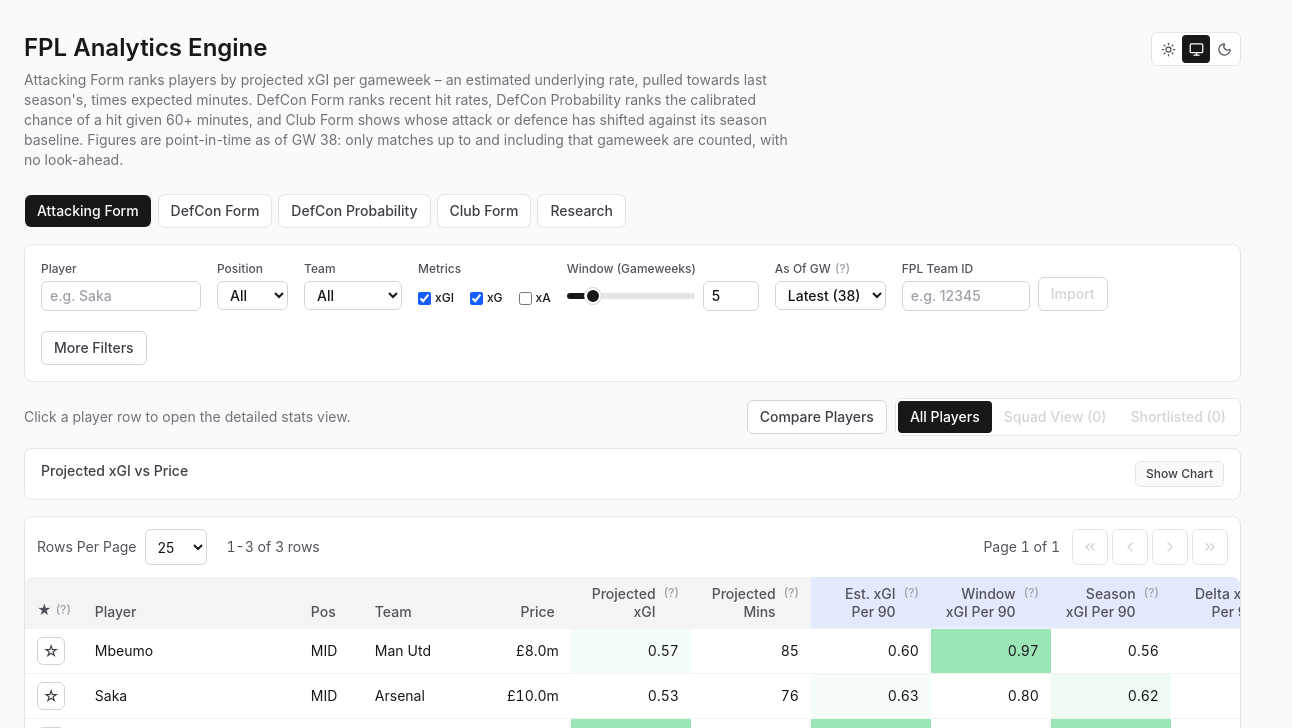
Test: filters the table by the player search box
Expected: the text "Saka" is shown, [95,686,127,706]
Type "Mbe" into the search field with placeholder "e.g. Saka".
click(121, 296); type("Mbe")  # box [41,281,201,311]
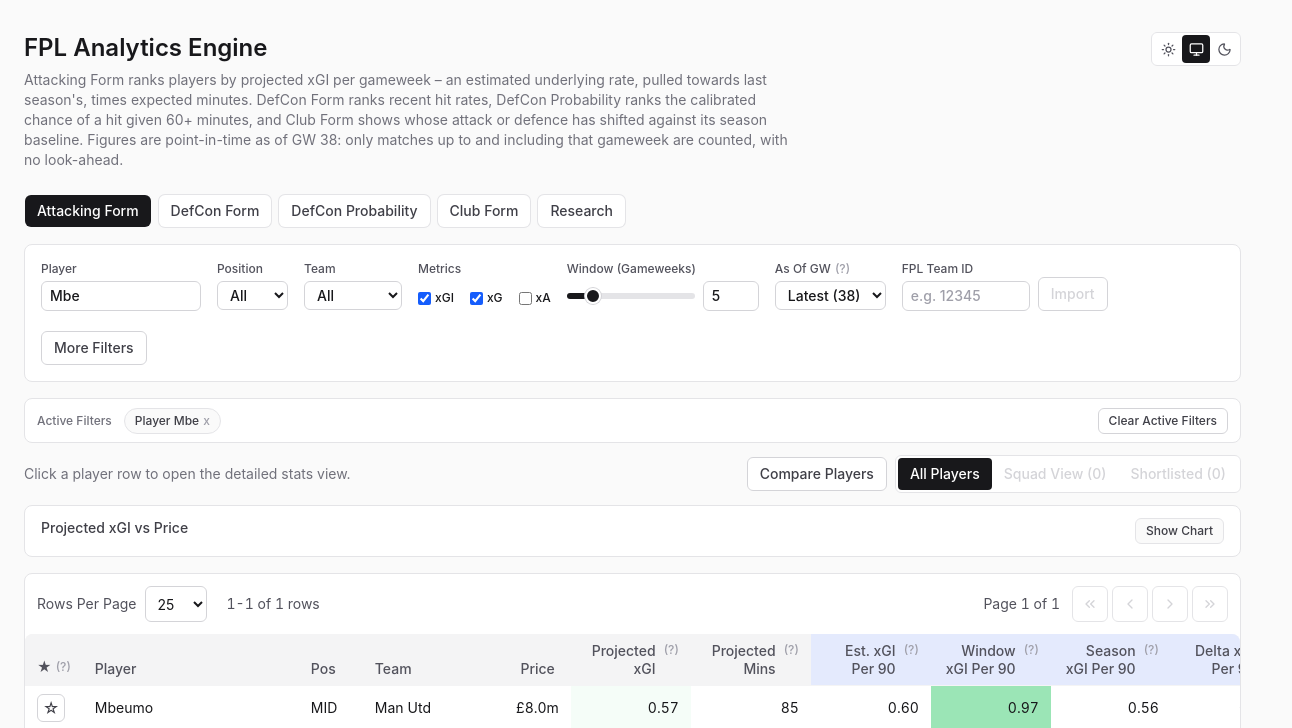
Expected: the text "Mbeumo" is shown, [95,698,153,718]
Result: the text "Saka" is gone
